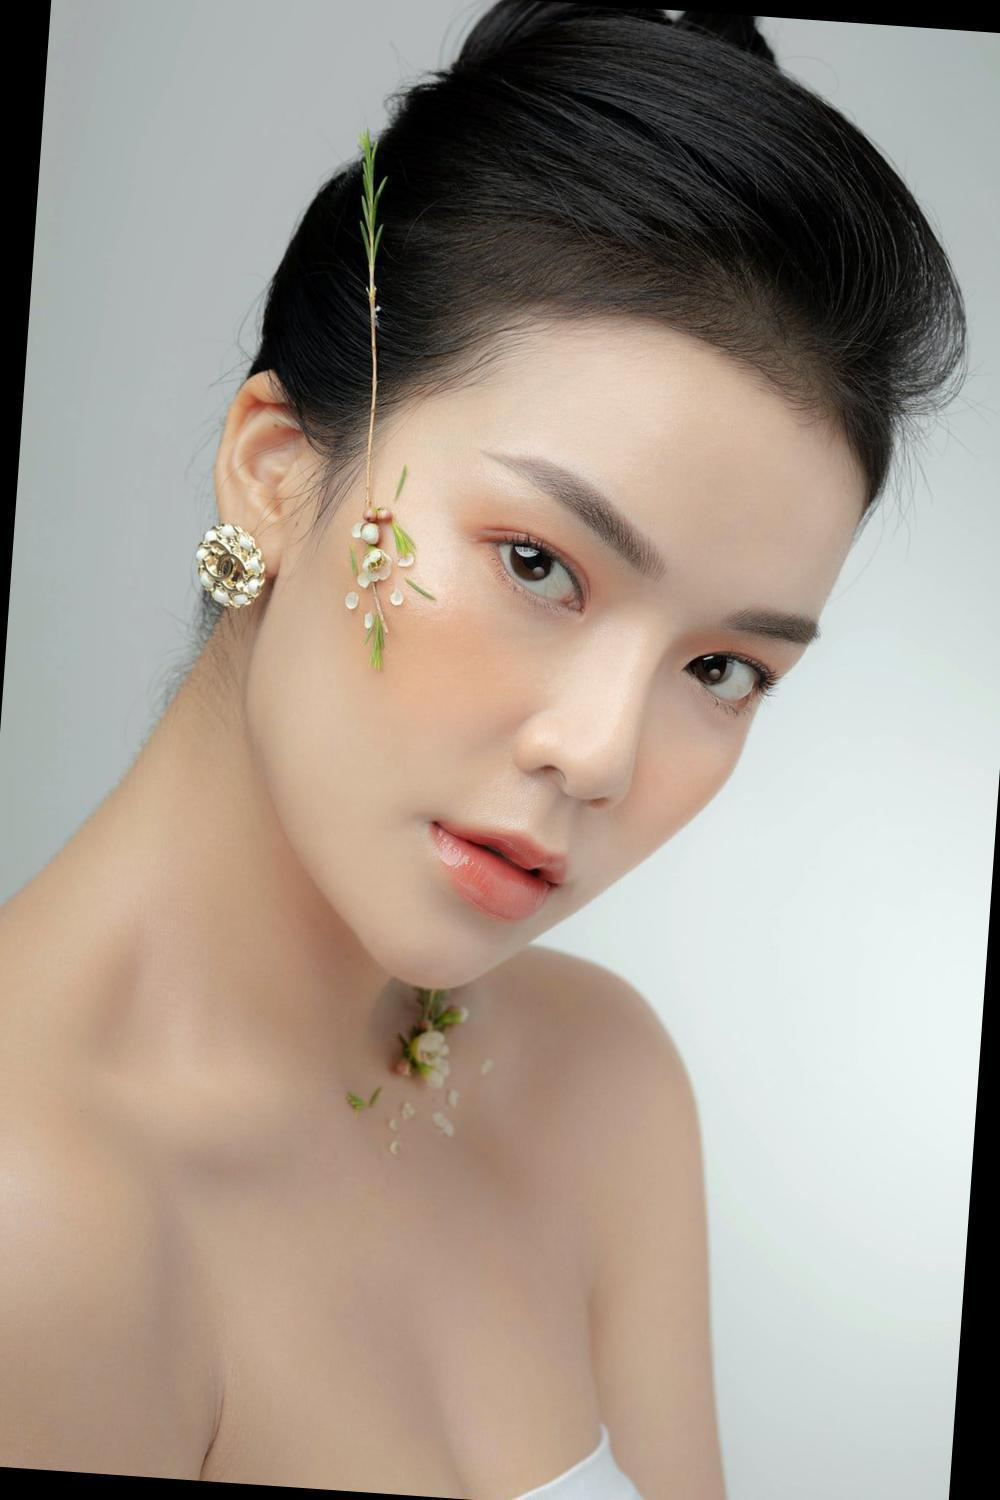Sober: (328, 324, 783, 967)
